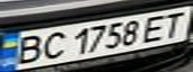1: (66, 25, 90, 56)
5: (106, 19, 127, 51)
7: (87, 23, 109, 53)
8: (118, 17, 148, 47)
B: (6, 33, 48, 65)
C: (36, 29, 69, 61)
E: (136, 12, 175, 43)
T: (157, 8, 193, 38)
